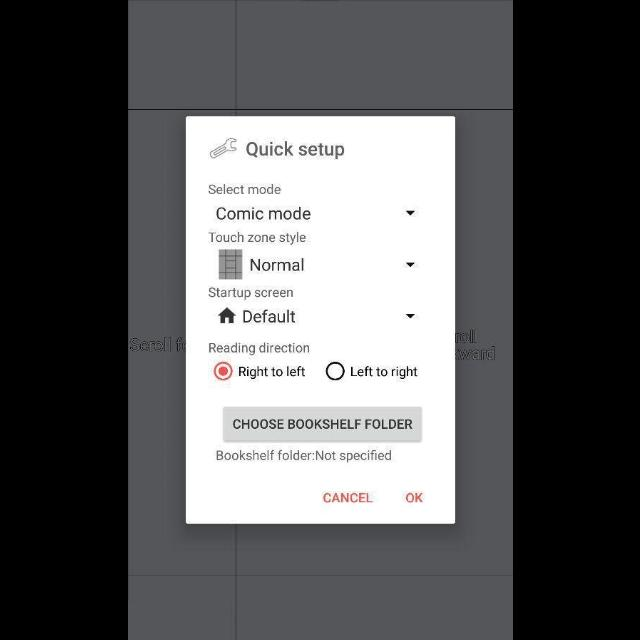checkbox: (212, 362, 232, 381), (324, 362, 344, 381)
icon: (218, 308, 236, 324), (406, 211, 414, 215), (406, 263, 414, 267), (406, 314, 414, 318)
image: (218, 250, 242, 278), (210, 138, 237, 158)
panel: (187, 117, 455, 523)
text: (216, 450, 390, 462), (246, 142, 344, 160), (209, 342, 309, 356), (216, 206, 310, 220), (208, 232, 306, 245), (208, 288, 292, 300), (349, 365, 416, 379), (238, 366, 304, 379), (250, 258, 304, 272), (243, 309, 295, 323), (208, 184, 280, 194), (322, 493, 372, 503), (406, 493, 422, 502)
textbutton: (223, 406, 422, 444), (322, 493, 372, 503), (406, 493, 422, 502)
